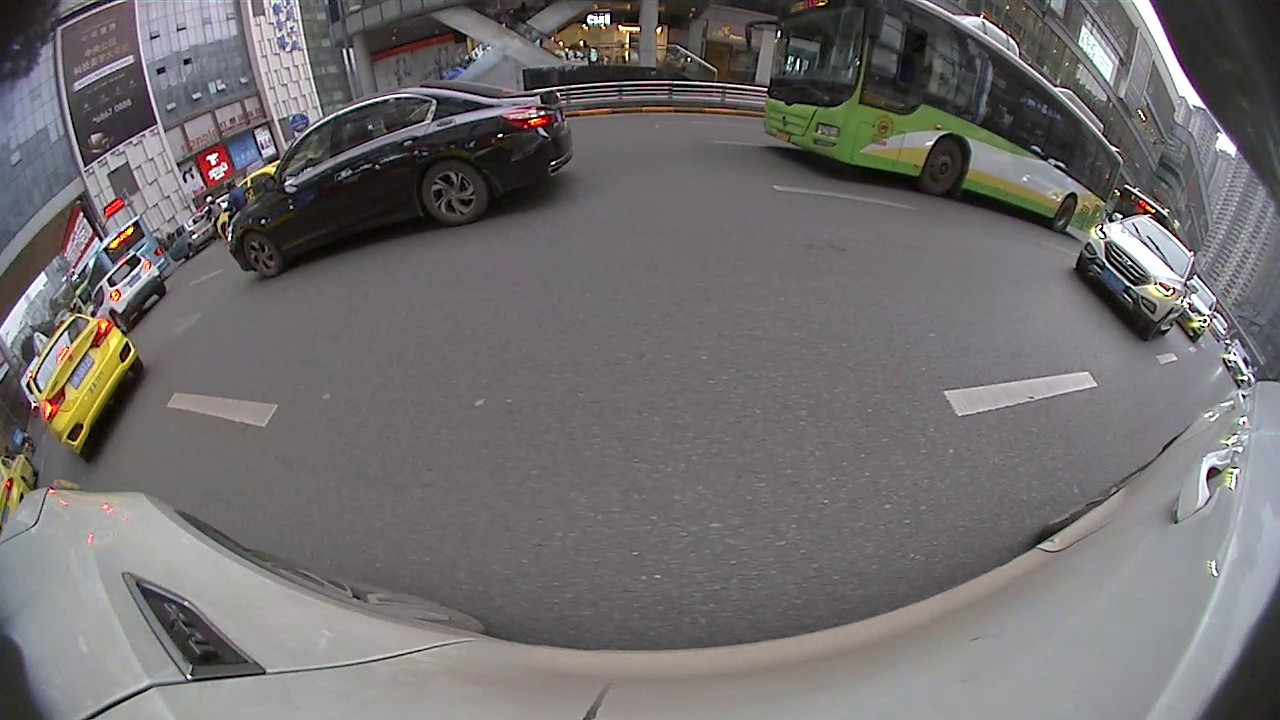bus: (751, 6, 1127, 244), (79, 211, 177, 313)
car: (226, 82, 567, 288), (1074, 218, 1198, 348), (29, 317, 141, 454), (87, 252, 171, 336), (1171, 276, 1222, 346)
front: (919, 137, 963, 196), (241, 228, 283, 282)
rear: (421, 159, 489, 228), (1051, 193, 1079, 233)
